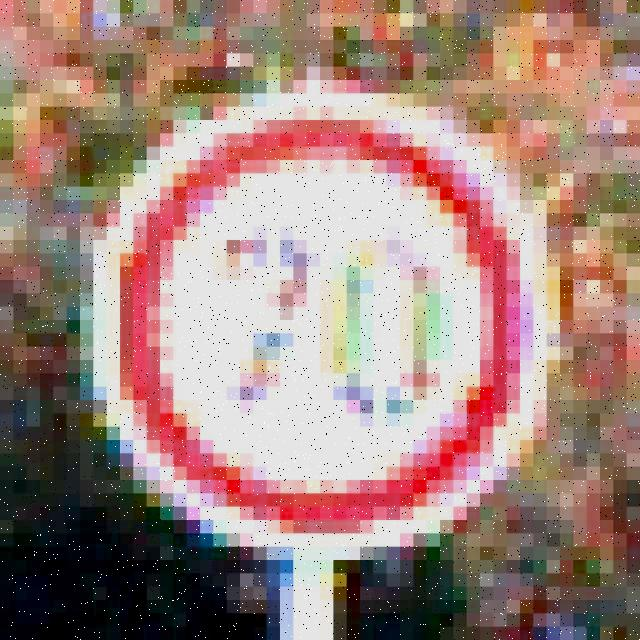Ograniczenie predkosci do 70: (104, 95, 536, 543)
